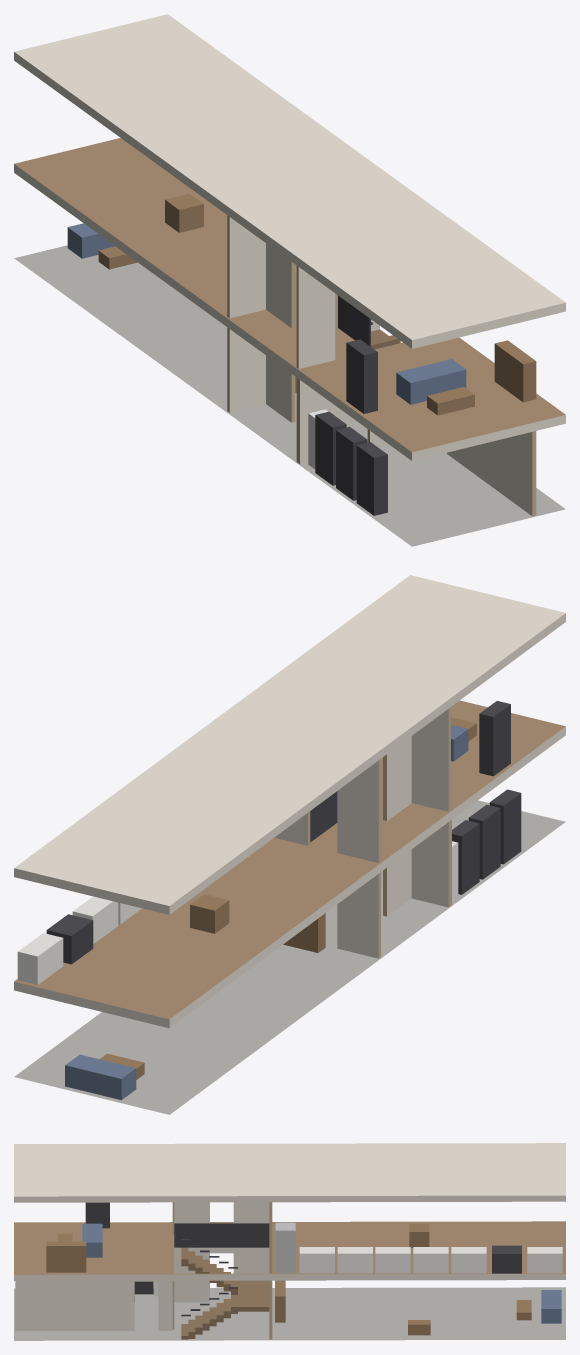
File: interior.glb
The picture shows the model from 3 angles, top to bottom: view 1: azimuth 30°, elevation 25°; view 2: azimuth 150°, elevation 25°; view 3: azimuth 270°, elevation 25°; orthographic projection. The views are drawn at different scales.
Visible parts, largest first — view 1: slabs, partitions, coarse-s1, coarse-s0, stair; view 2: slabs, partitions, coarse-s1, coarse-s0, stair; view 3: slabs, partitions, coarse-s1, stair, coarse-s0.
Boxes of the visible parts, x1,y1,x2,y2 form: slabs: (14,14,565,546); partitions: (227,215,536,516); coarse-s1: (165,193,536,415); coarse-s0: (67,223,387,515); stair: (338,295,400,349); slabs: (14,575,565,1114); partitions: (274,707,451,958); coarse-s1: (17,701,510,984); coarse-s0: (65,789,521,1100); stair: (310,791,337,842); slabs: (14,1143,565,1340); partitions: (15,1202,272,1339); coarse-s1: (46,1202,562,1273); stair: (174,1223,269,1339); coarse-s0: (134,1280,561,1335).
Bounding box in the file's own units: 4.83 × 6.1 × 21.08.
